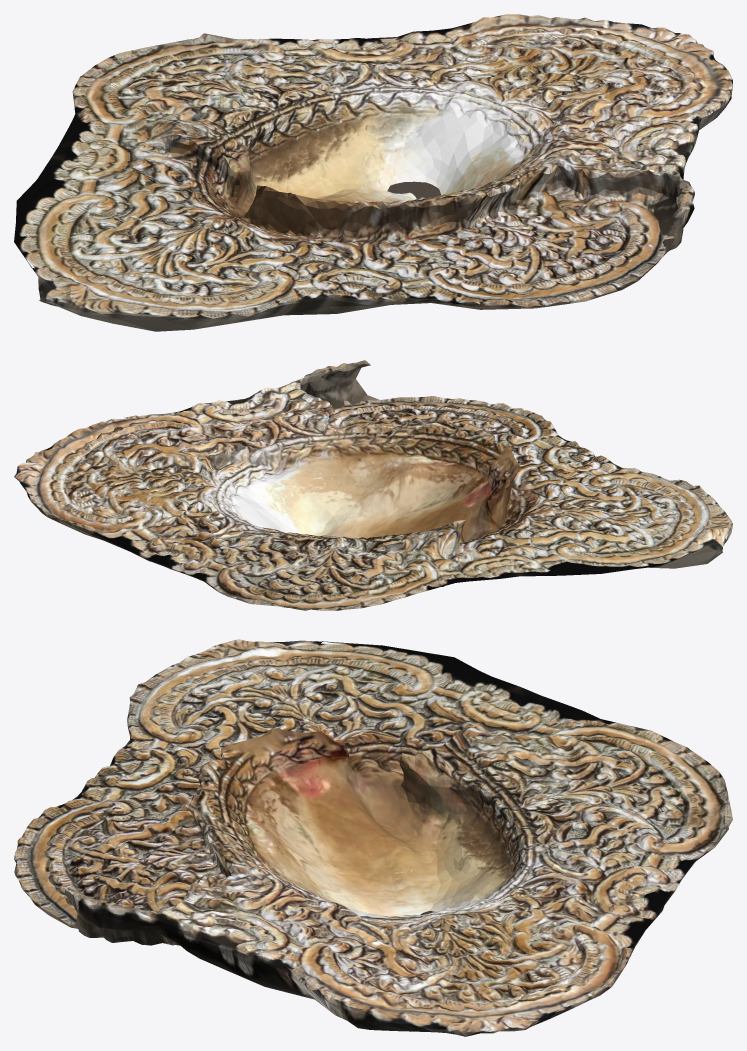
The model's file is ashtray.obj.
The picture shows the model from 3 angles, top to bottom: view 1: azimuth 30°, elevation 25°; view 2: azimuth 150°, elevation 25°; view 3: azimuth 270°, elevation 25°; orthographic projection. The views are drawn at different scales.
Size of the model in its own units: 0.5191 by 0.0655 by 0.4104.
